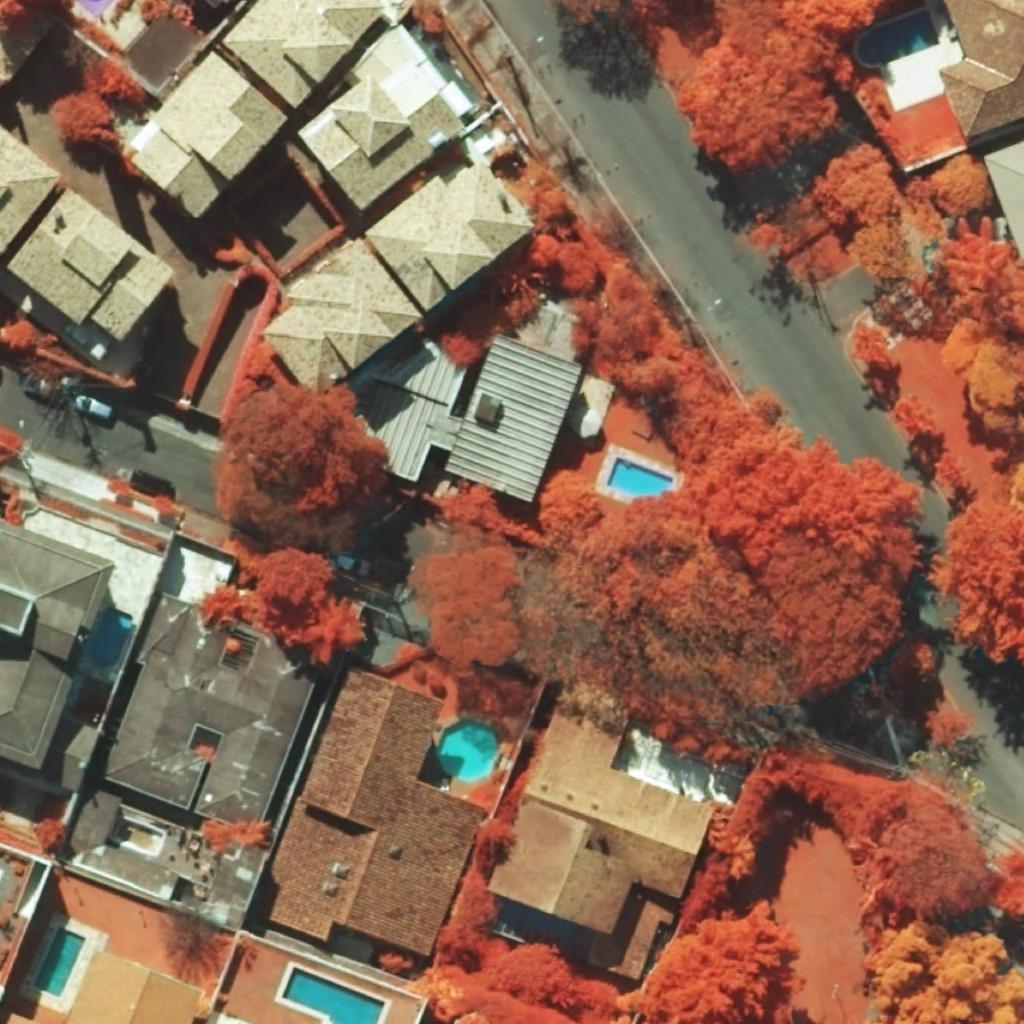pool: (282, 967, 385, 1024), (856, 9, 940, 65), (436, 718, 497, 783), (33, 927, 86, 998), (88, 606, 133, 668), (607, 458, 673, 496)
